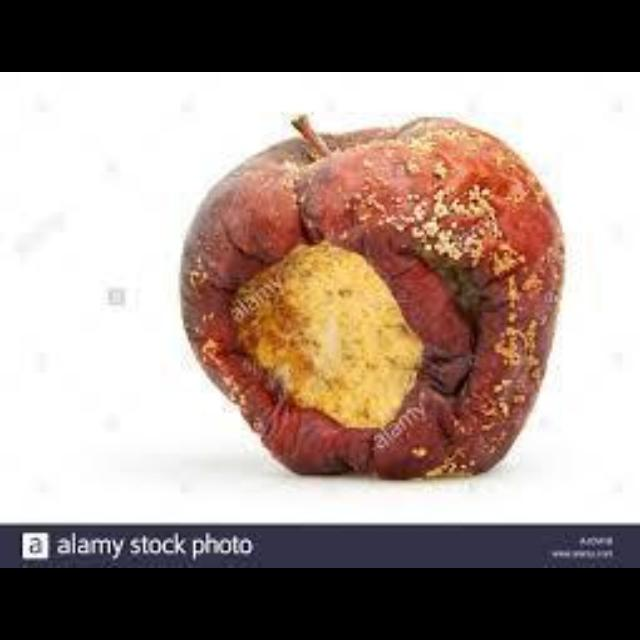apple: (181, 117, 562, 479)
rotten: (181, 115, 562, 476)
